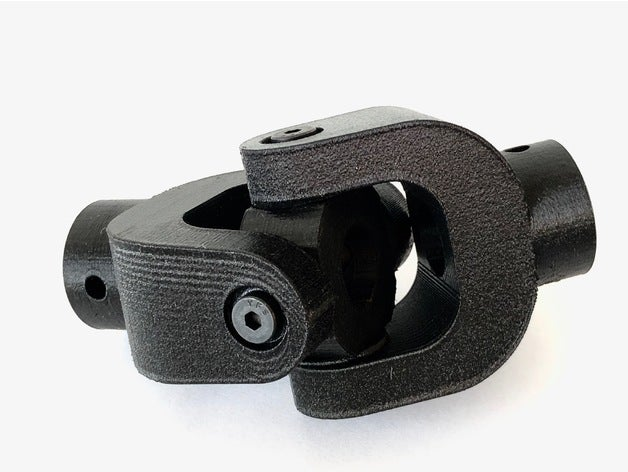Good: (19, 96, 618, 426)
